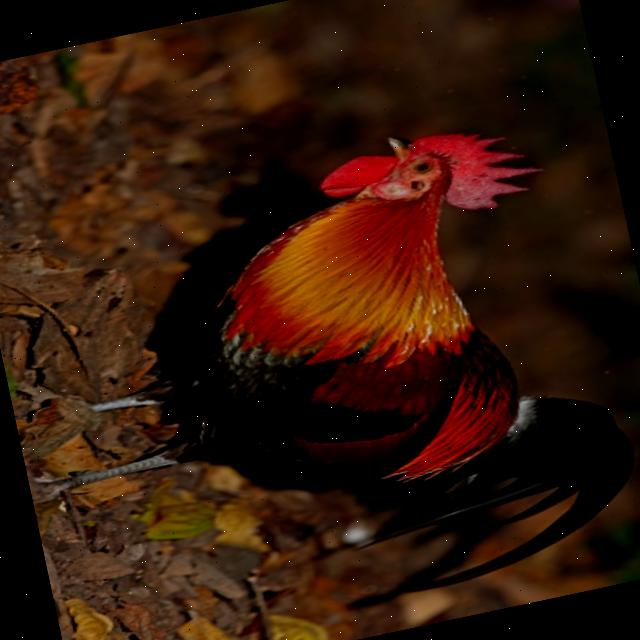Healthy: (8, 43, 640, 640), (268, 358, 640, 640), (255, 96, 558, 282)
